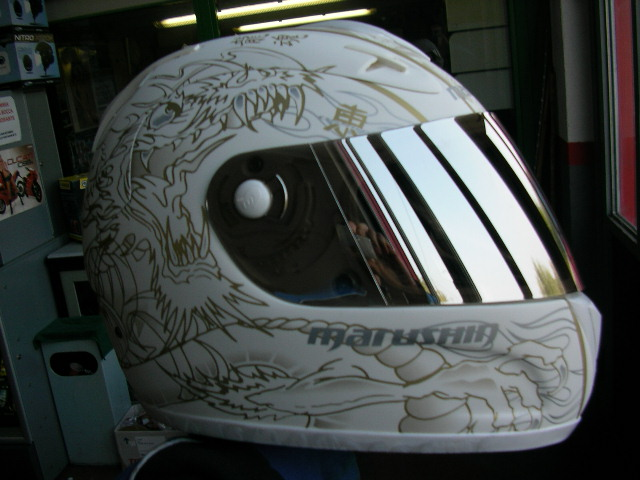helmet: (101, 64, 599, 431)
